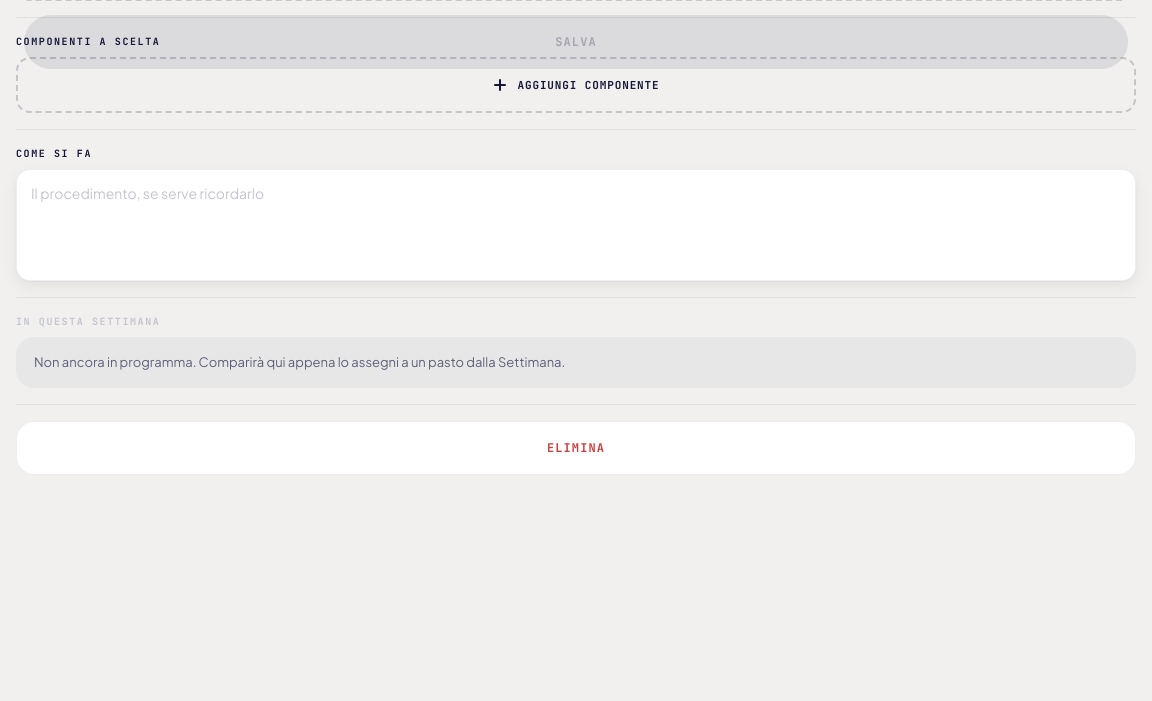
Test: Piatto (editor) › ANNULLA nella conferma chiude il dialogo senza eliminare
(page scrolled)
Click the button with aria-label "Elimina piatto" at (576, 448), box [16,421,1136,475]
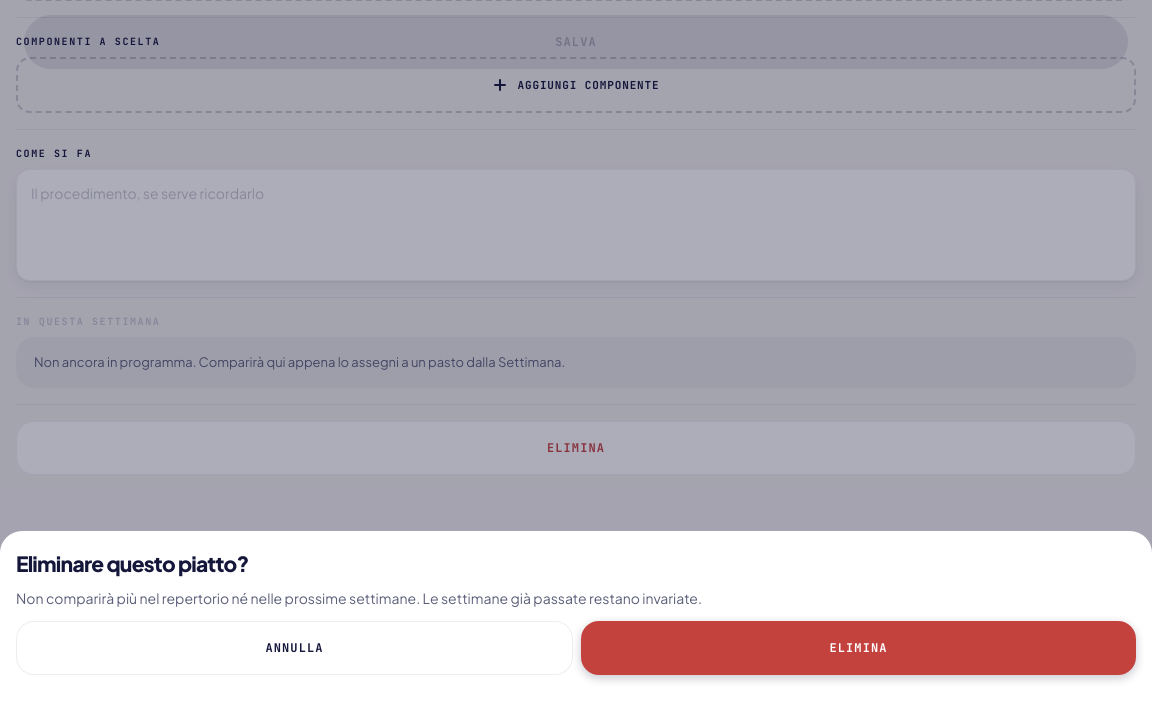
Click the button "ANNULLA" at (294, 648), box [16,621,573,675]
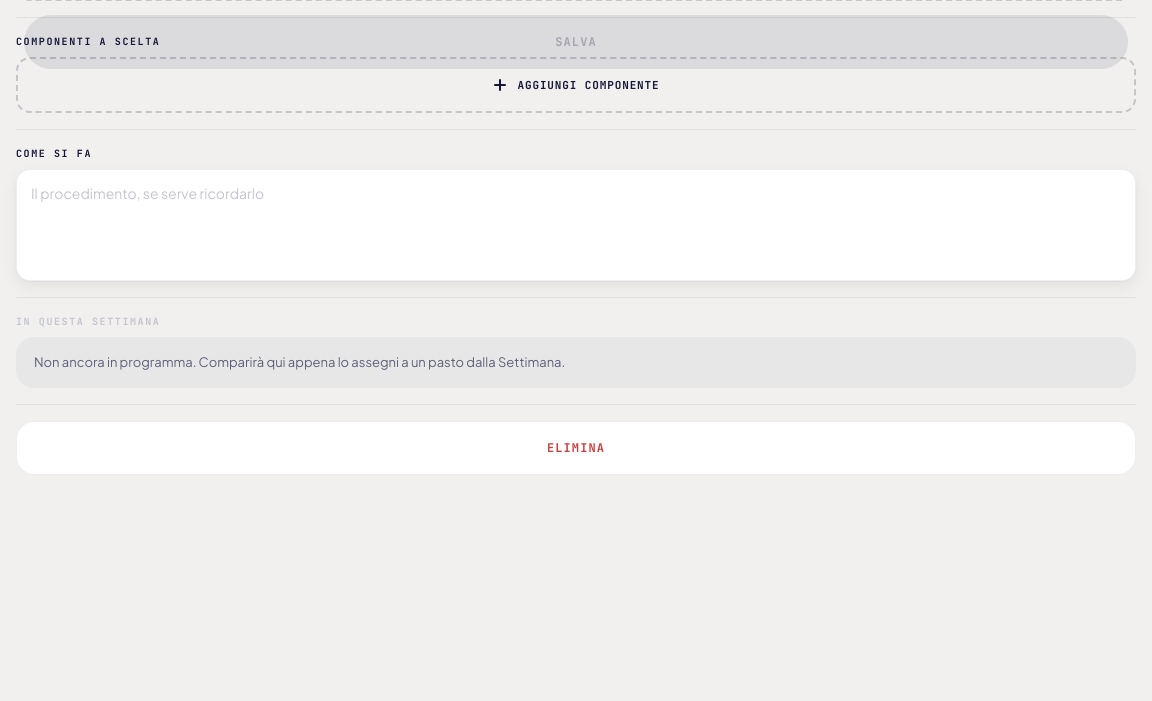
Result: the heading "Eliminare questo piatto?" is gone
